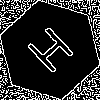H: (25, 25, 83, 83)
